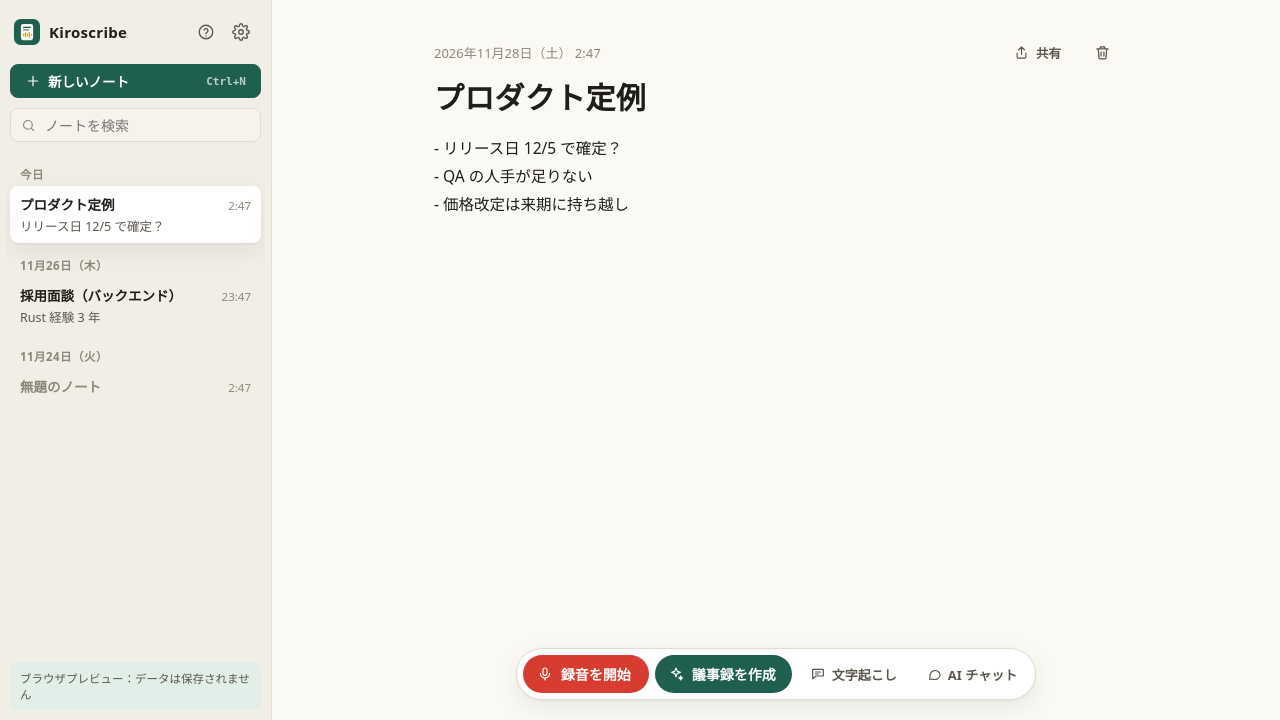
Scenario: 録音 › [REC-001][REC-009][REC-014][TRN-016][TRN-021][NOTE-006] 録音を開始すると文字起こしが表示され、停止できる
Check: the field showing "プロダクト定例" is shown, box [434,74,1118,121]
Click the button "録音を開始": x=586, y=674 [523,655,649,693]
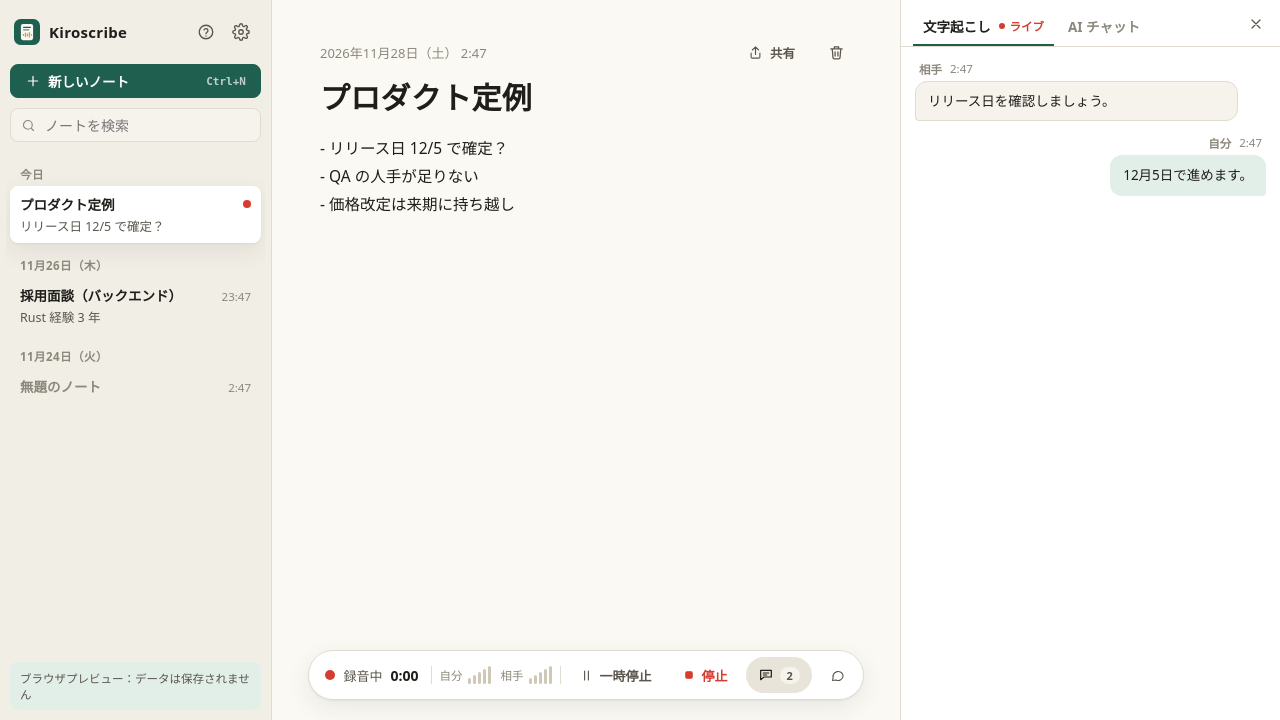
Check: the element showing "録音中 0:00" is shown, box [342,666,424,684]
Check: the text "ライブ" is shown, box [998,18,1044,34]
Check: the text "リリース日を確認しましょう。" is shown, box [928,92,1116,110]
Click the button "一時停止": x=615, y=675 [566,657,664,693]
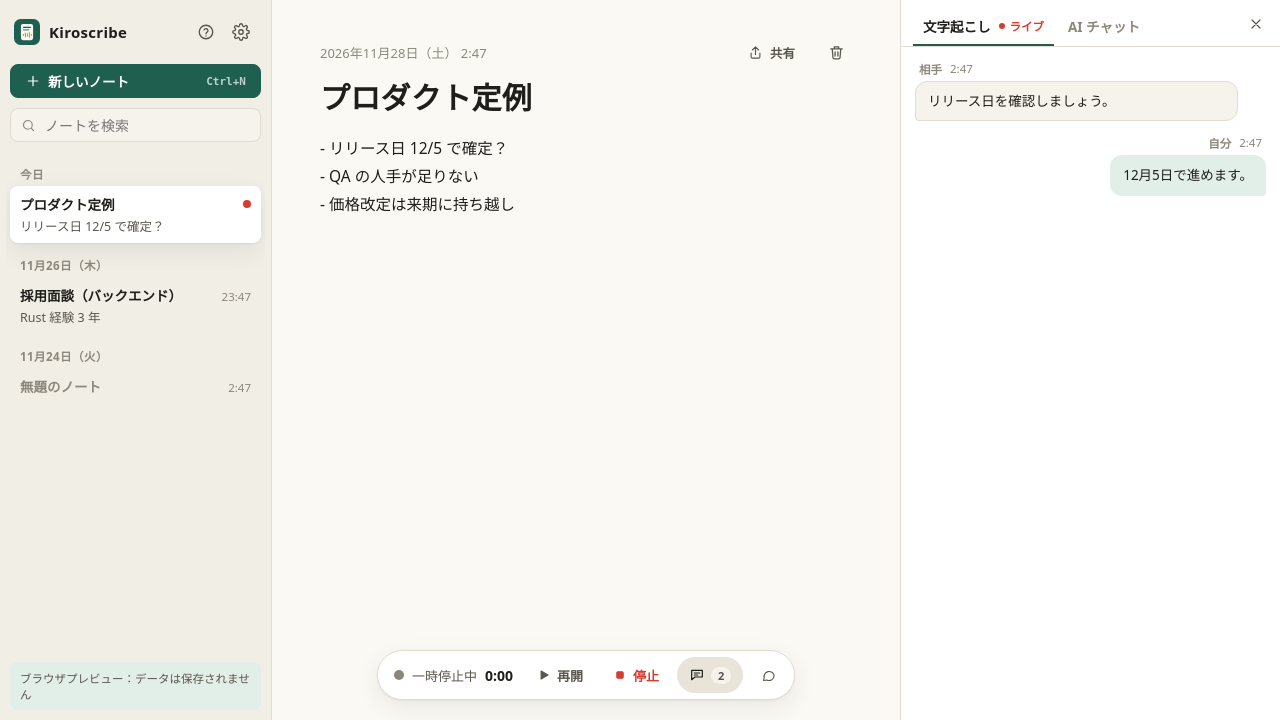
Check: the element showing "一時停止中 0:00" is shown, box [410,666,519,684]
Click the button "再開": x=560, y=675 [525,657,595,693]
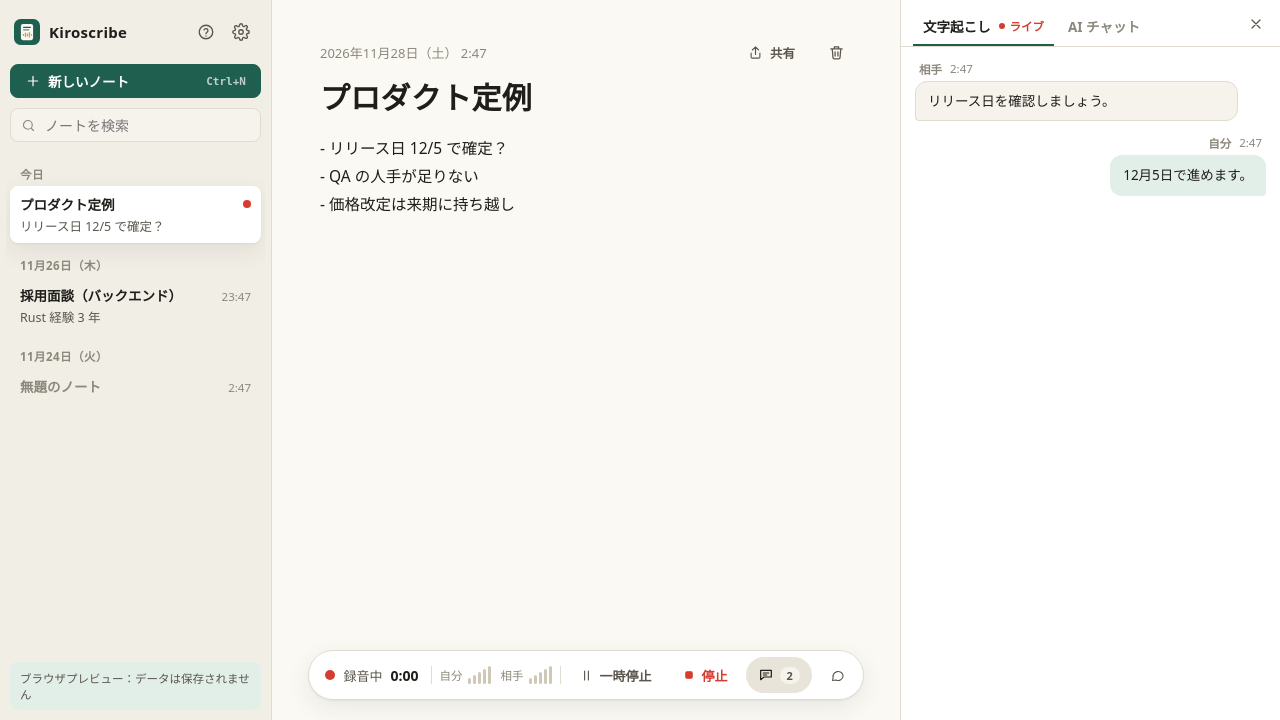
Check: the element showing "録音中 0:00" is shown, box [342,666,424,684]
Click the button "停止": x=704, y=675 [670,657,740,693]
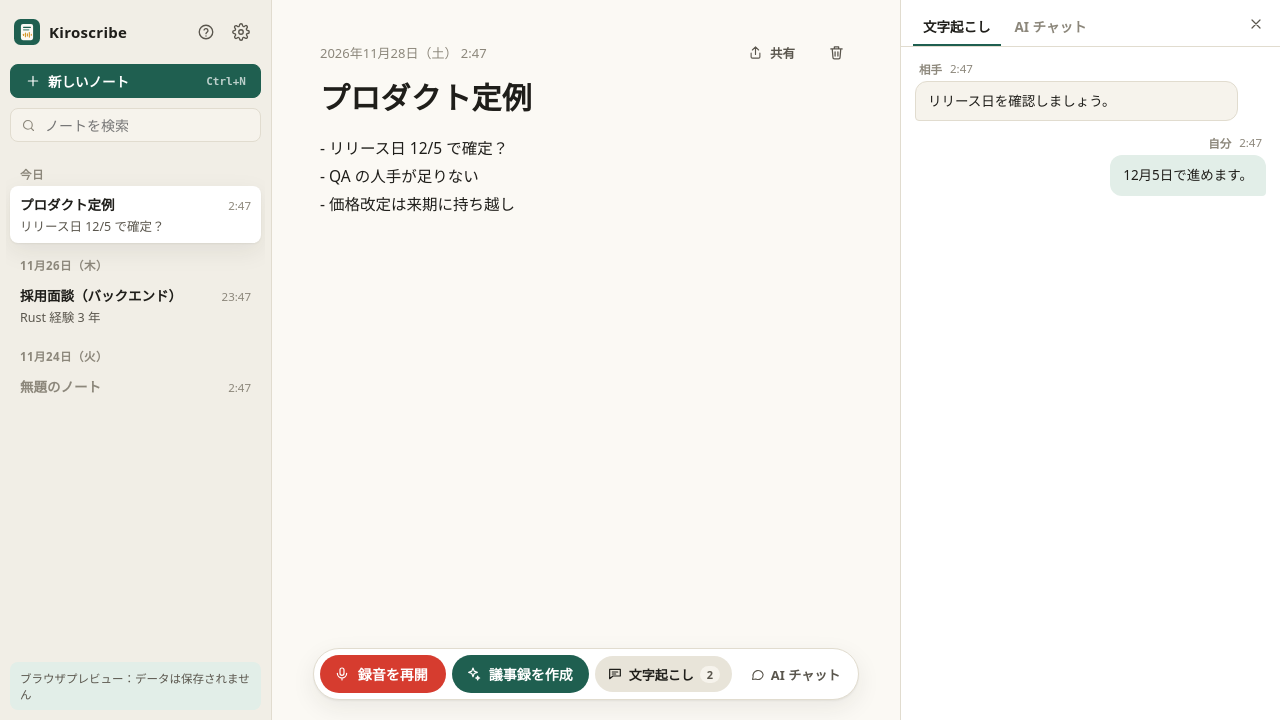
Check: the button "録音を再開" is shown, box [320,655,446,693]
Check: the field labelled "録音中" is gone
Check: the button "文字起こし 2" is shown, box [595,656,732,692]
